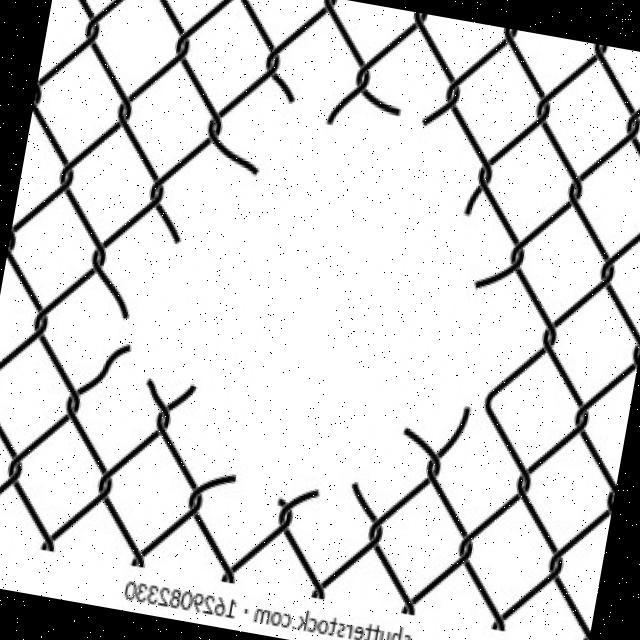fence line: (45, 11, 600, 582)
